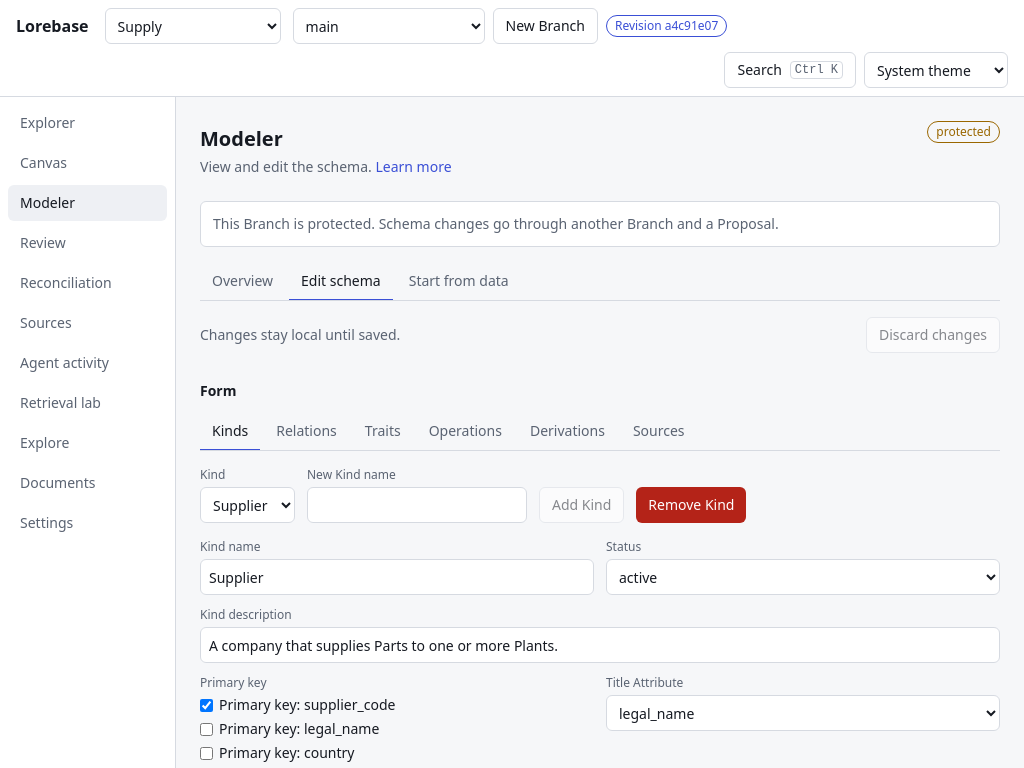
Test case: Modeler change sets › sends a change set for a protected Branch through a new Branch and a Proposal
In the field labelled "New Kind name": {"x": 417, "y": 505} [307,487,527,523], type "Warehouse"
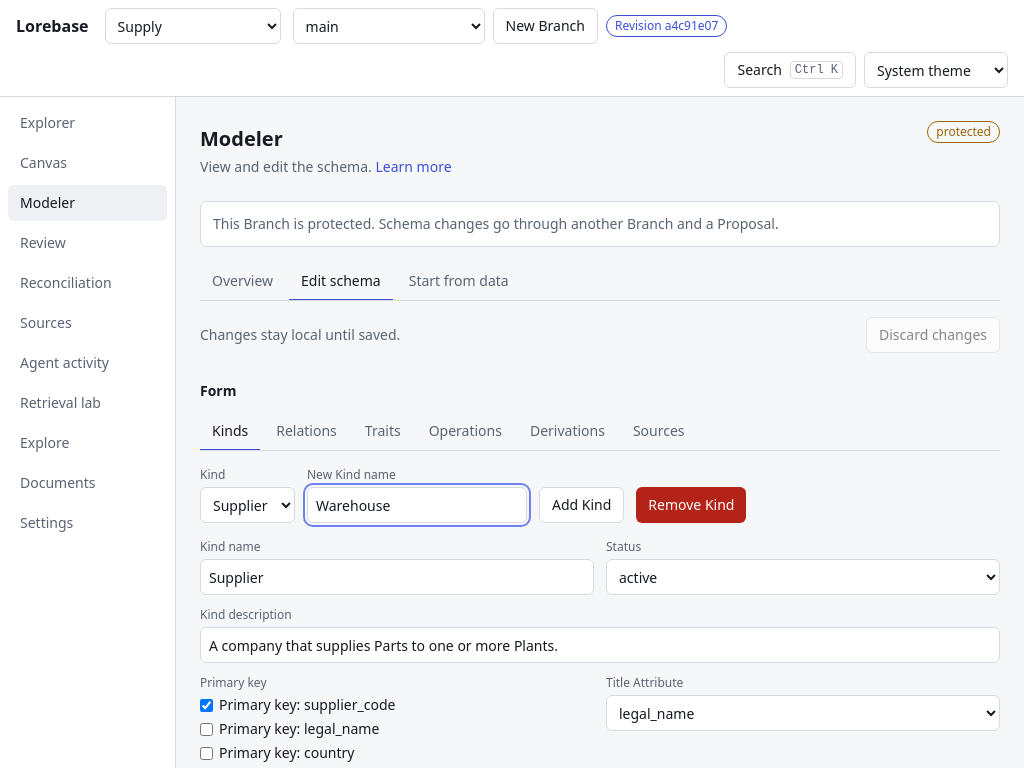
Click the button "Add Kind": {"x": 582, "y": 505} [539,487,624,523]
(page scrolled)
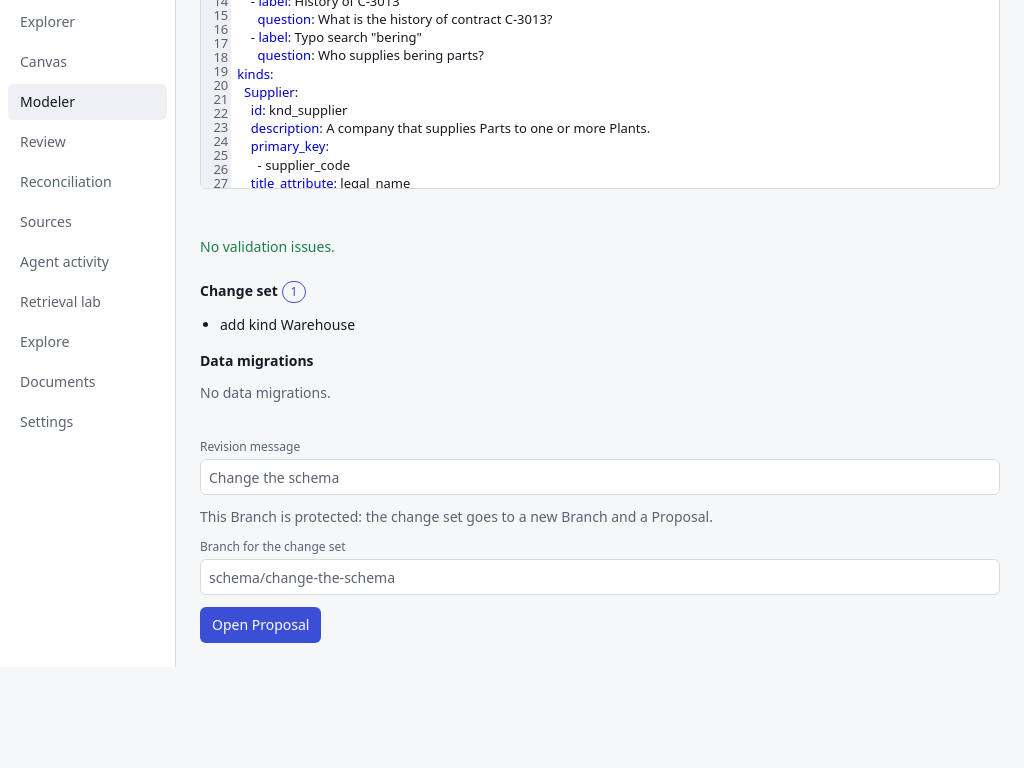
In the field labelled "Revision message": {"x": 600, "y": 477} [200,459,1000,495], type "Add Warehouse Kind"
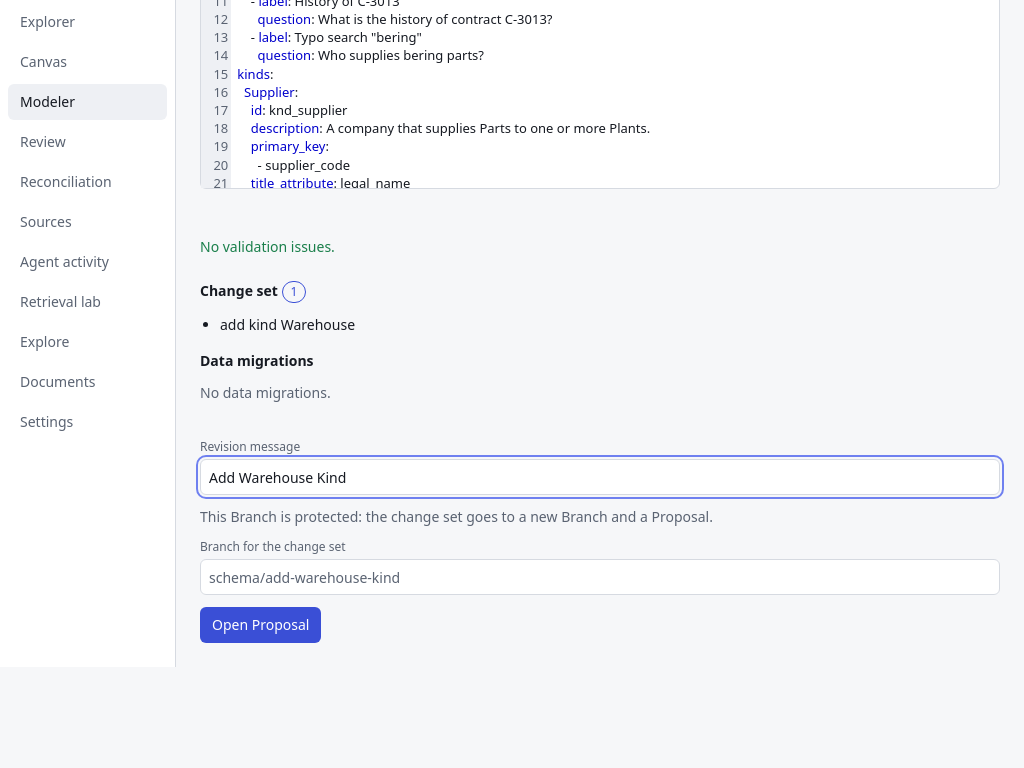
Expected: the button "Open Proposal" is enabled
Click the button "Open Proposal": {"x": 261, "y": 625} [200,607,321,643]
(page scrolled)
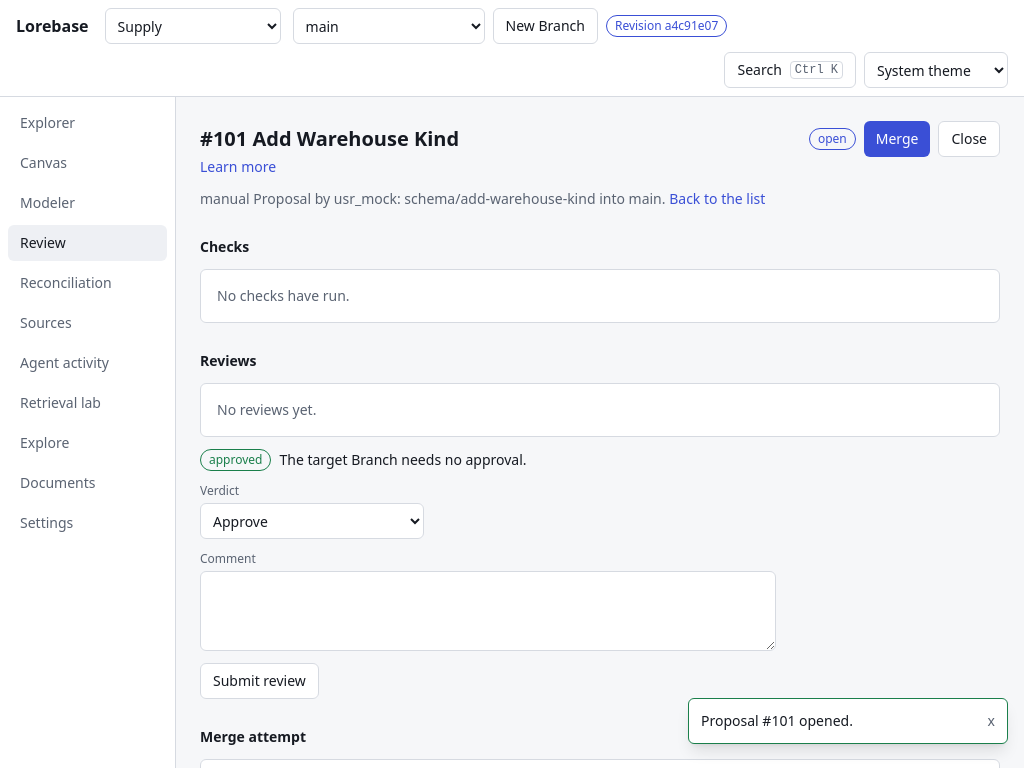
Expected: the heading "#101 Add Warehouse Kind" is shown, [200,121,459,157]
Expected: the text "schema/add-warehouse-kind into main" is shown, [200,189,666,208]
